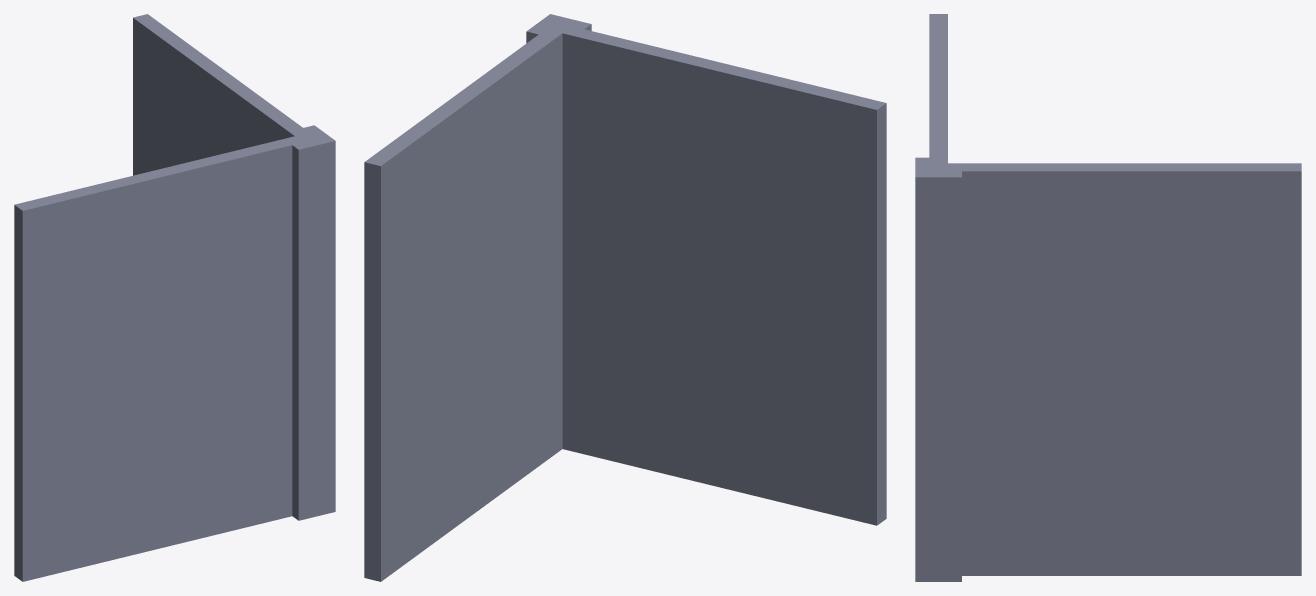
Rendered from wall-corner-column.obj.
3 renders of one model, left to right at view 1: azimuth 30°, elevation 25°; view 2: azimuth 150°, elevation 25°; view 3: azimuth 270°, elevation 25°, orthographic. The views are drawn at different scales.
Bounding box in the file's own units: 2.08 × 2.4 × 2.08.
